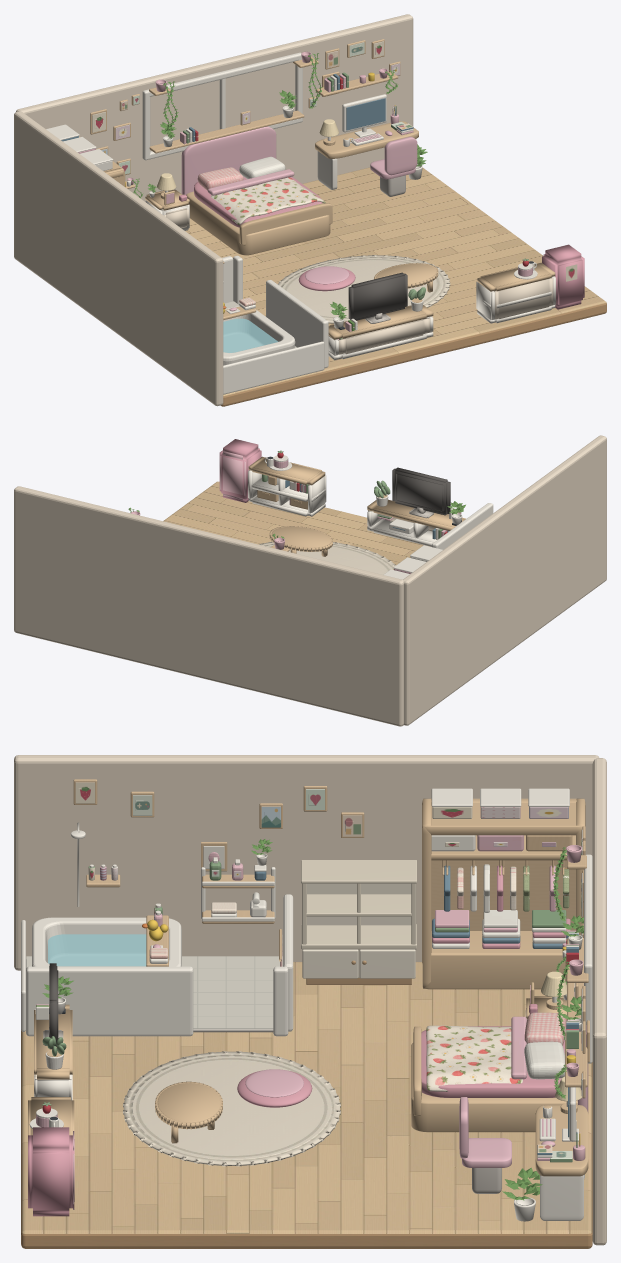
The model's file is room-web.glb.
3 renders of one model, top to bottom at view 1: azimuth 30°, elevation 25°; view 2: azimuth 150°, elevation 25°; view 3: azimuth 270°, elevation 25°, orthographic. The views are drawn at different scales.
Visible parts, largest first — view 1: PH1_Wall_Left, PH1_Floor, PH1_Bath_Rear_Partition, PH1_Bed_Frame, PH1_Bed_Headboard, BED_WarmLamp, PH3_Lounge_Rug, PH3_SnackShelf_Back, PH1_Desk_Side_L, PH1_Bathtub_Basin, BED_Duvet, PH3_TV_Body (+10 smaller); view 2: PH1_Wall_Left, PH1_Floor, PH1_Bed_Frame, PH1_Desk_Side_L, PH1_Bath_Rear_Partition, PH3_TV_Body, PH3_Lounge_Rug, PH3_DessertCabinet_Body, PH3_DessertCabinet_Door, BED_WarmLamp, INT_Strawberry; view 3: PH1_Floor, PH1_Wall_Left, PH1_Bed_Frame, PH1_Bath_Rear_Partition, PH3_Lounge_Rug, BED_WarmLamp, DISPLAY_Lower_Carcass, PH1_Bathtub_Basin, BATH_TileGrid, DISPLAY_Closed_Door_1, BED_Duvet, DESK_Notebook (+17 smaller).
Part boxes in pixels (<box>): PH1_Wall_Left: <box>14,14,413,406</box>; PH1_Floor: <box>185,167,606,406</box>; PH1_Bath_Rear_Partition: <box>46,52,537,394</box>; PH1_Bed_Frame: <box>79,121,555,339</box>; PH1_Bed_Headboard: <box>181,126,417,284</box>; BED_WarmLamp: <box>90,39,422,319</box>; PH3_Lounge_Rug: <box>277,255,450,323</box>; PH3_SnackShelf_Back: <box>164,208,553,354</box>; PH1_Desk_Side_L: <box>145,105,555,360</box>; PH1_Bathtub_Basin: <box>223,306,295,365</box>; BED_Duvet: <box>211,177,325,224</box>; PH3_TV_Body: <box>348,272,407,320</box>; PH1_Wall_Left: <box>14,435,606,726</box>; PH1_Floor: <box>163,481,429,725</box>; PH1_Bed_Frame: <box>248,456,465,569</box>; PH1_Desk_Side_L: <box>248,470,462,546</box>; PH1_Bath_Rear_Partition: <box>264,455,493,579</box>; PH3_TV_Body: <box>392,467,450,515</box>; PH3_Lounge_Rug: <box>259,541,395,574</box>; PH3_DessertCabinet_Body: <box>219,439,261,502</box>; PH3_DessertCabinet_Door: <box>220,451,461,536</box>; BED_WarmLamp: <box>257,476,387,551</box>; INT_Strawberry: <box>262,450,447,538</box>; PH1_Floor: <box>21,962,592,1248</box>; PH1_Wall_Left: <box>14,755,606,1245</box>; PH1_Bed_Frame: <box>28,798,588,1176</box>; PH1_Bath_Rear_Partition: <box>21,788,592,1178</box>; PH3_Lounge_Rug: <box>123,1051,340,1166</box>; BED_WarmLamp: <box>47,779,589,1113</box>; DISPLAY_Lower_Carcass: <box>301,860,416,977</box>; PH1_Bathtub_Basin: <box>32,917,181,966</box>; BATH_TileGrid: <box>26,956,282,1028</box>; DISPLAY_Closed_Door_1: <box>302,883,415,978</box>; BED_Duvet: <box>426,1025,522,1091</box>; DESK_Notebook: <box>35,782,582,1162</box>.
Bounding box in the file's own units: 9.3 × 3.46 × 8.3.
37 materials, 16 textured.
